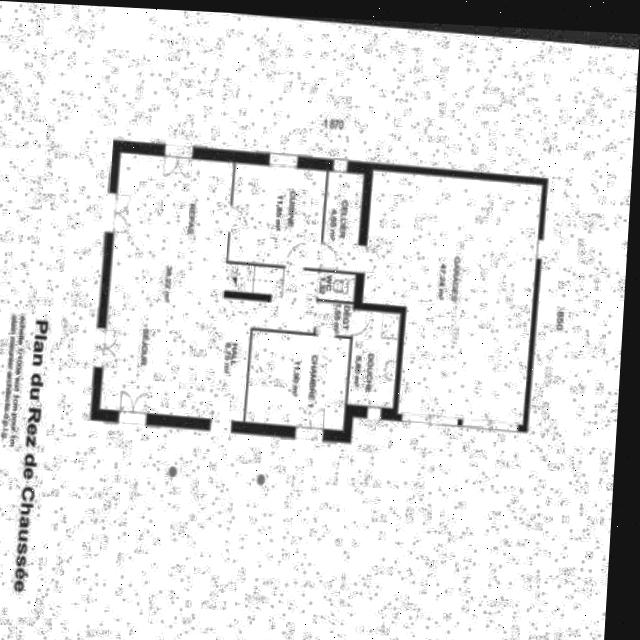room: (89, 138, 325, 435), (344, 165, 540, 419), (243, 324, 349, 438), (225, 160, 325, 268), (344, 305, 399, 404), (317, 167, 362, 268), (226, 260, 282, 292), (312, 297, 352, 333), (315, 267, 354, 298)
